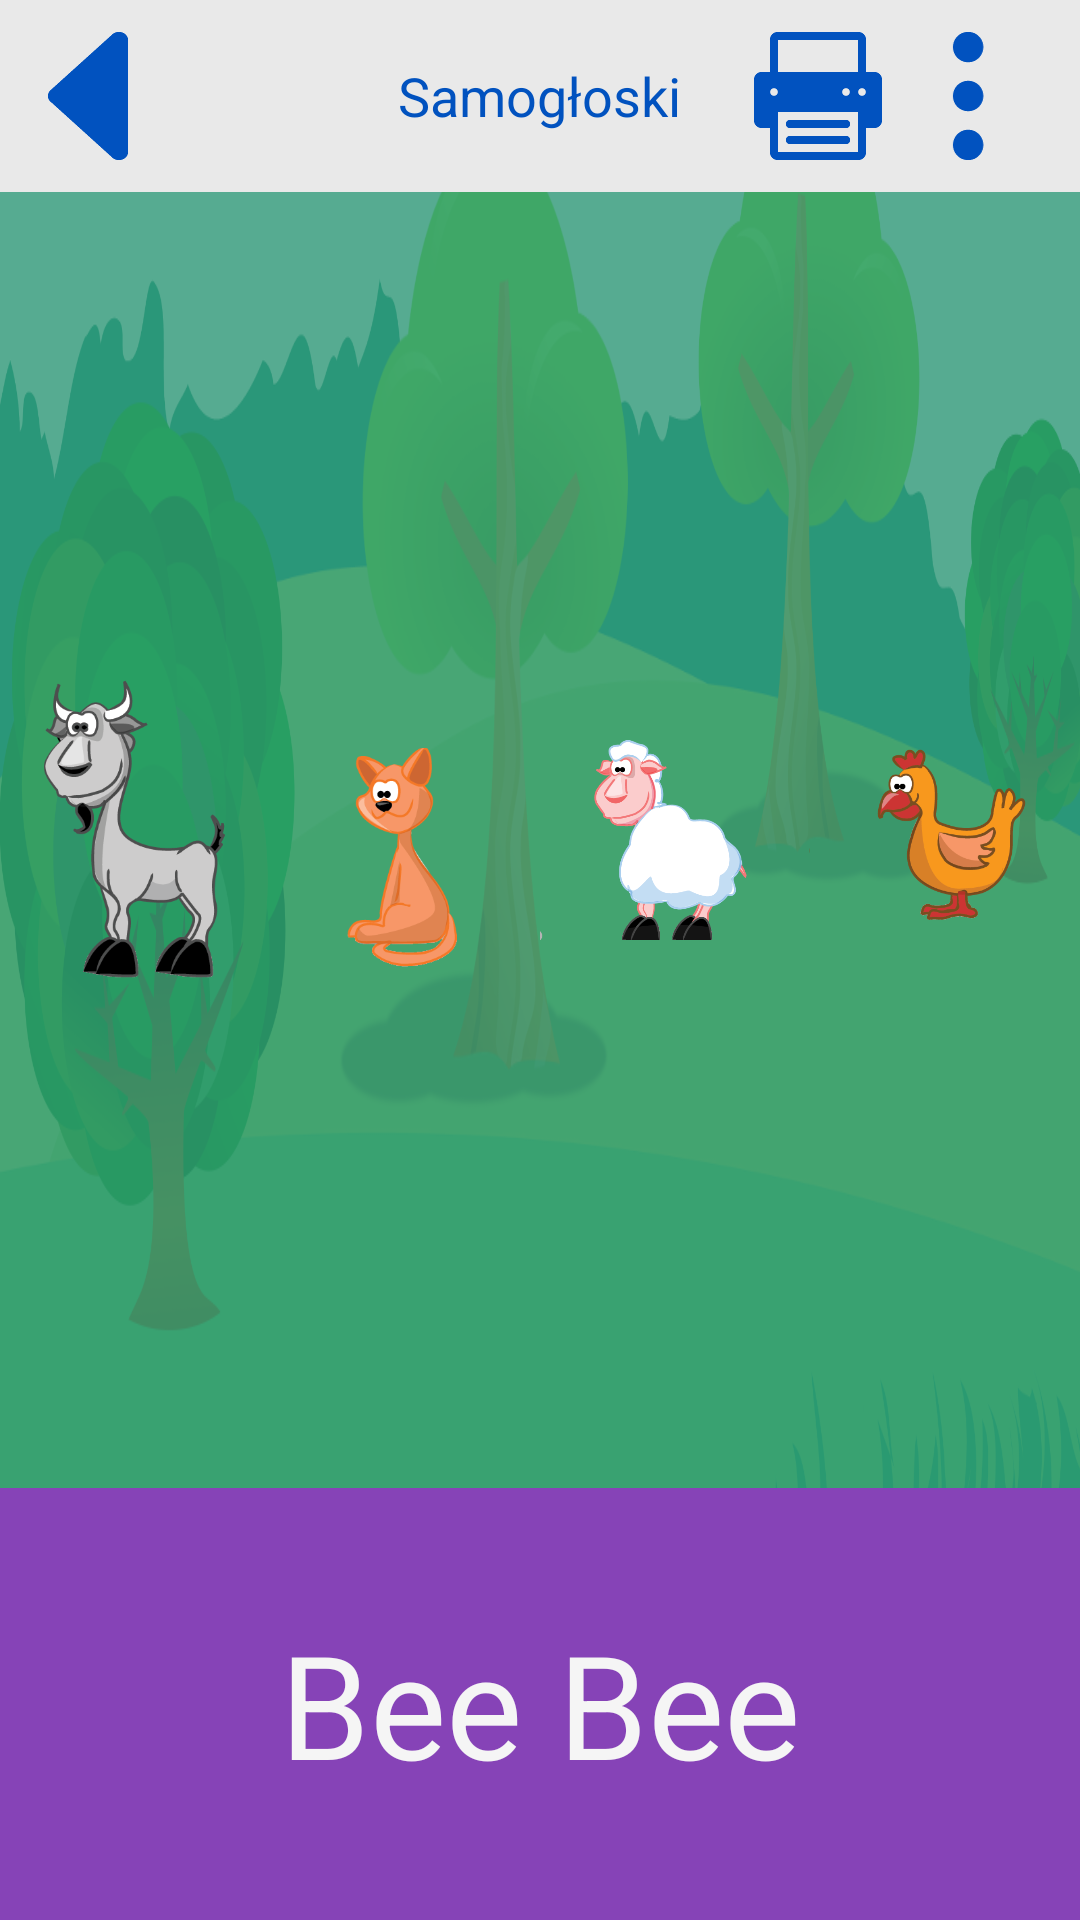

Where icons sit on this 1080 x 1920 app screen, as (x1, y1, x2, y2):
Przycisk powrotu: (48, 32, 128, 160)
Przycisk ustawień: (953, 32, 984, 160)
Przycisk wydruku: (754, 32, 882, 160)
